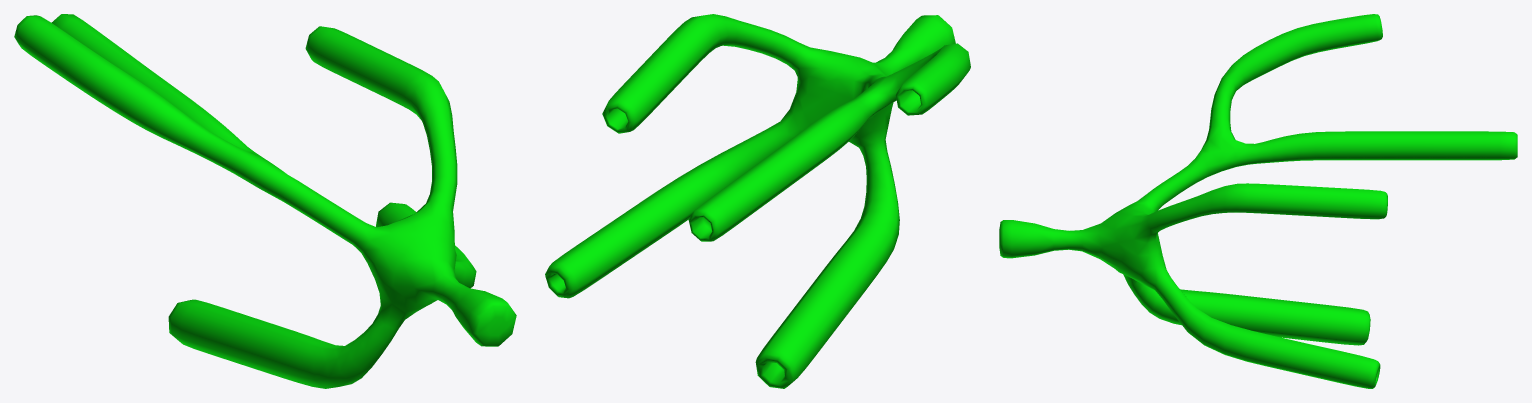
File: coralTube_low.fbx
3 renders of one model, left to right at view 1: azimuth 30°, elevation 25°; view 2: azimuth 150°, elevation 25°; view 3: azimuth 270°, elevation 25°, orthographic. The views are drawn at different scales.
Visible parts, largest first — view 1: coralTube_low; view 2: coralTube_low; view 3: coralTube_low.
Boxes of the visible parts, x1,y1,x2,y2 form: coralTube_low: (14, 14, 516, 388); coralTube_low: (545, 14, 970, 388); coralTube_low: (999, 14, 1517, 388).
Size of the model in its own units: 30.67 by 26.39 by 45.54.
